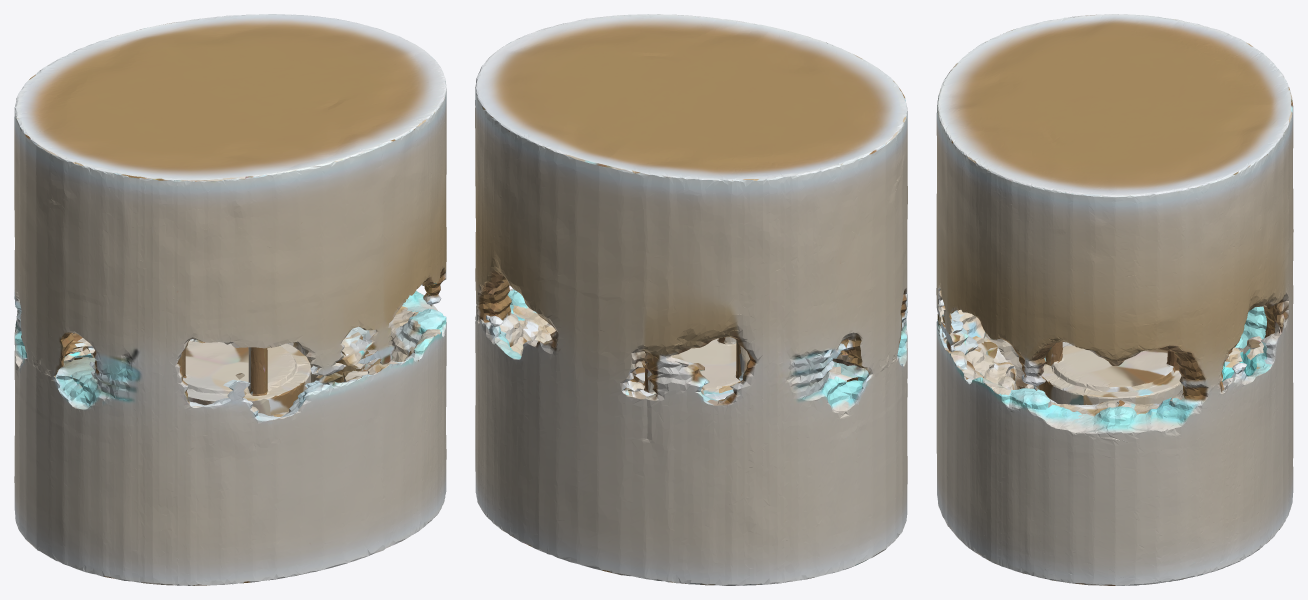
Rendered from paint-batch-wellhouse.glb.
The picture shows the model from 3 angles, left to right: view 1: azimuth 30°, elevation 25°; view 2: azimuth 150°, elevation 25°; view 3: azimuth 270°, elevation 25°; orthographic projection. The views are drawn at different scales.
Visible parts, largest first — view 1: geometry_0; view 2: geometry_0; view 3: geometry_0.
Part boxes in pixels (x1=…): geometry_0: x1=14, y1=14, x2=446, y2=585; geometry_0: x1=475, y1=14, x2=907, y2=585; geometry_0: x1=936, y1=14, x2=1293, y2=585.
Size of the model in its own units: 2 by 2 by 1.65.
Materials: 1 (1 with a texture image).
